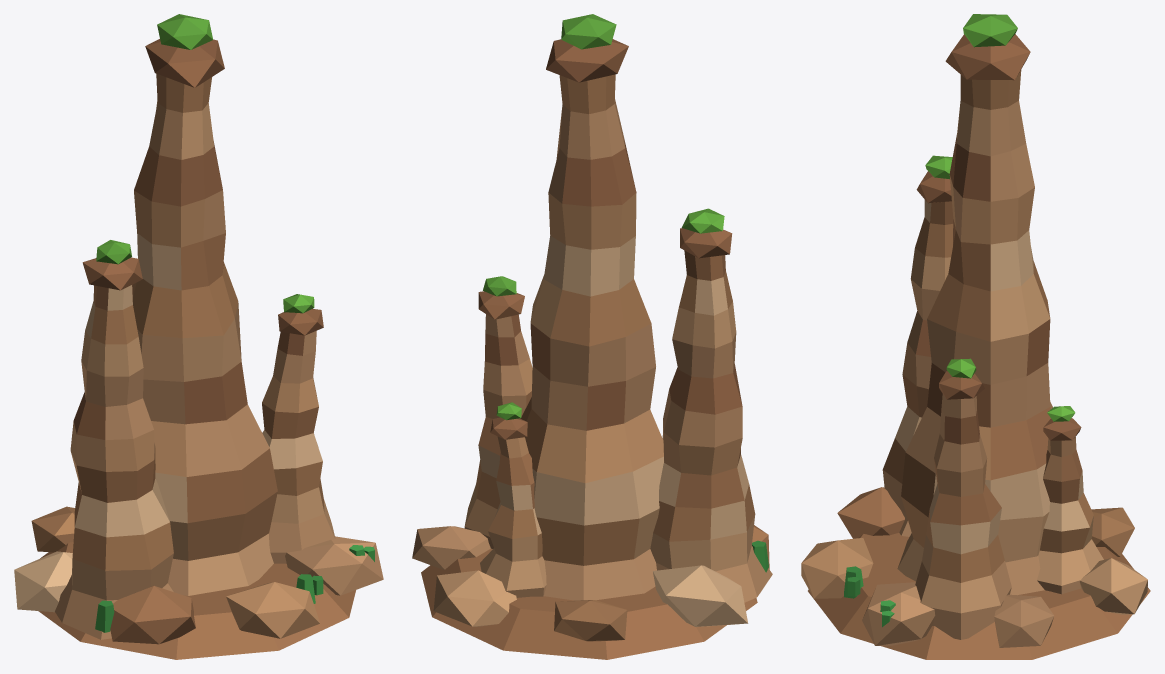
The model's file is rock-spire.glb.
3 views of the same model, side by side, from view 1: azimuth 30°, elevation 25°; view 2: azimuth 150°, elevation 25°; view 3: azimuth 270°, elevation 25° (orthographic).
Visible parts, largest first — view 1: rock-spire; view 2: rock-spire; view 3: rock-spire.
Part boxes in pixels (box(x1,y1,x2,y2)): rock-spire: box(14, 14, 383, 659); rock-spire: box(412, 14, 772, 659); rock-spire: box(801, 14, 1150, 659).
Bounding box in the file's own units: 16.1 × 27.87 × 15.28.
Materials: 1 (1 with a texture image).
